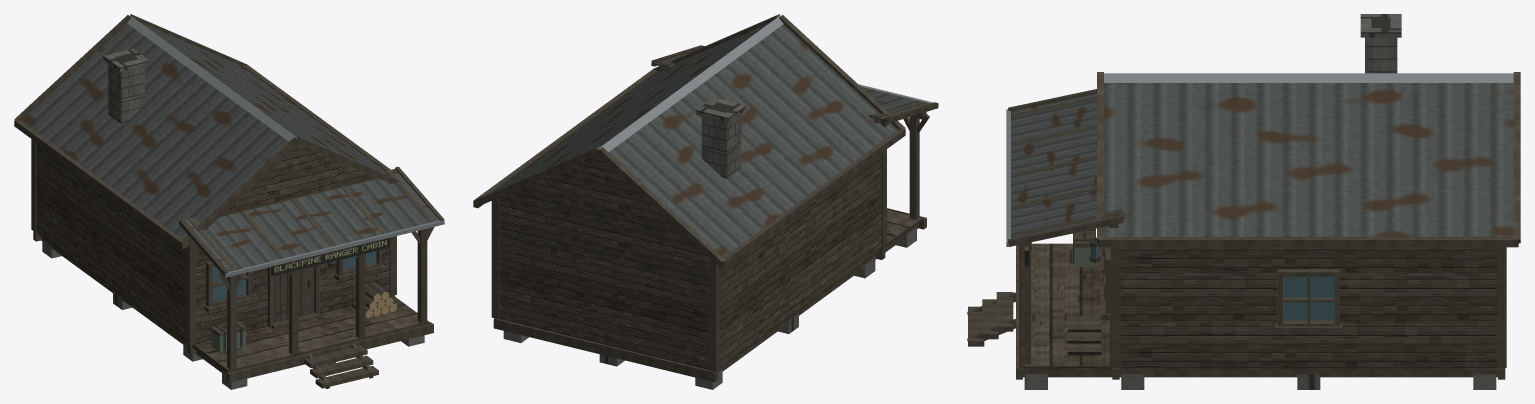
The model's file is BlackpineRangerCabin_PSX.fbx.
3 views of the same model, side by side, from view 1: azimuth 30°, elevation 25°; view 2: azimuth 150°, elevation 25°; view 3: azimuth 270°, elevation 25° (orthographic). The views are drawn at different scales.
Visible parts, largest first — view 1: Blackpine_Cabin, Blackpine_Door; view 2: Blackpine_Cabin; view 3: Blackpine_Cabin.
Boxes of the visible parts, <box> form: Blackpine_Cabin: <box>14,14,444,389</box>; Blackpine_Door: <box>274,266,314,322</box>; Blackpine_Cabin: <box>473,14,938,389</box>; Blackpine_Cabin: <box>967,14,1520,389</box>.
Size of the model in its own units: 694 by 627 by 1148.
11 materials, 5 textured.
